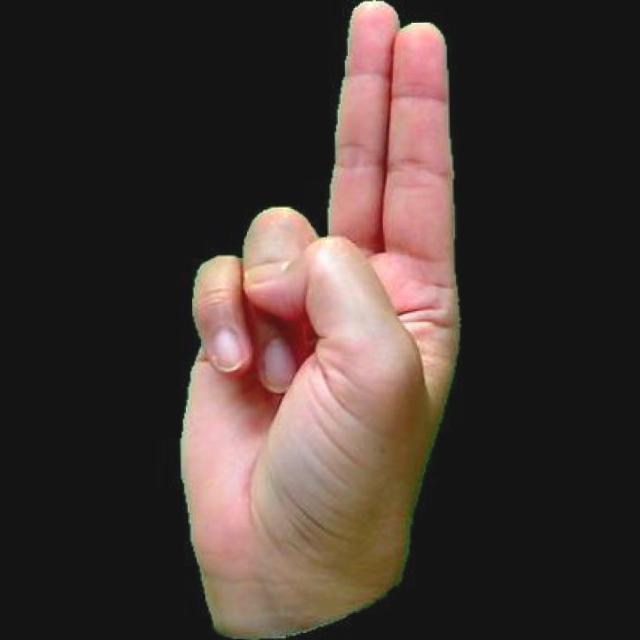u: (145, 0, 465, 640)
